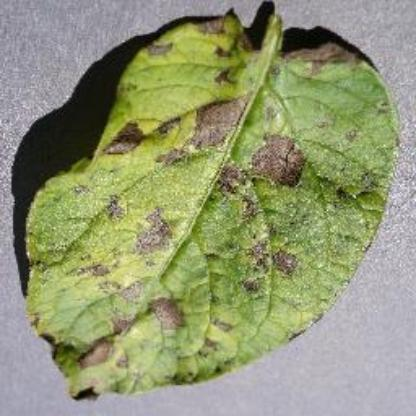Early-Blight: (18, 6, 398, 402)
